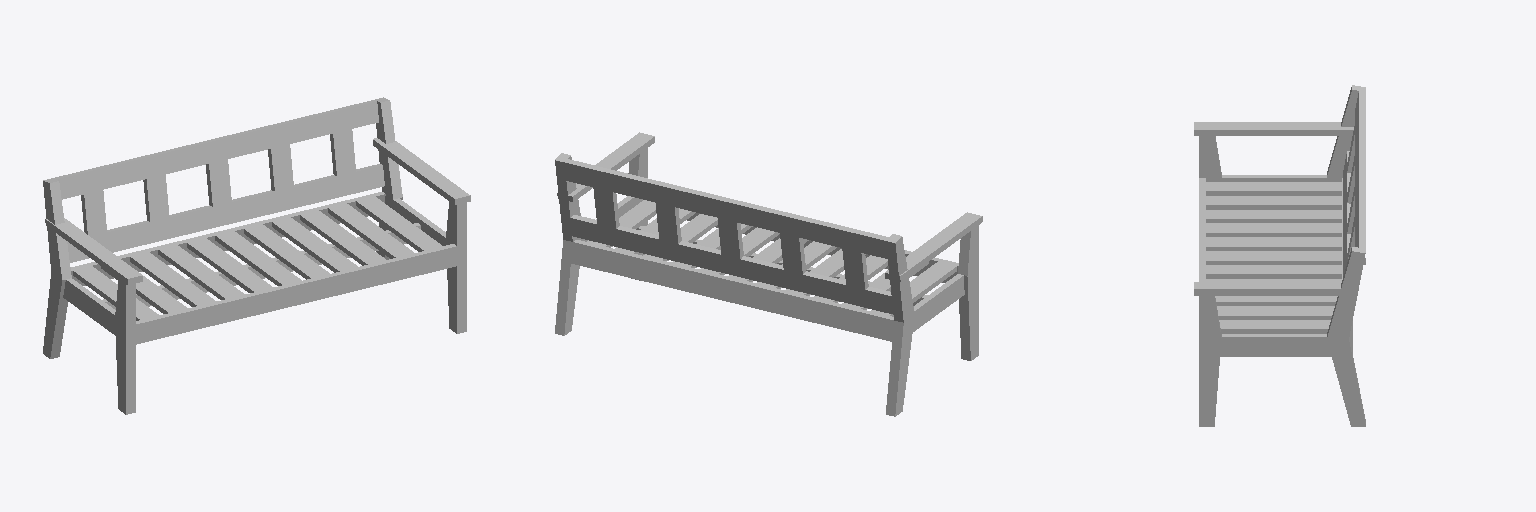
Rendered from banca.obj.
The picture shows the model from 3 angles: view 1: azimuth 30°, elevation 25°; view 2: azimuth 150°, elevation 25°; view 3: azimuth 270°, elevation 25°; orthographic projection.
Parts seen in each view (by area): view 1: Body12_Steel_-_Satin_0, Body6_Steel_-_Satin_0, Body13_Steel_-_Satin_0, Body2_Steel_-_Satin_0, Body1_Steel_-_Satin_0, Body8_Steel_-_Satin_0, Body7_Steel_-_Satin_0, Body11_Steel_-_Satin_0, Body4_Steel_-_Satin_0, Body22_Steel_-_Satin_0, Body17_Steel_-_Satin_0, Body26_Steel_-_Satin_0 (+17 smaller); view 2: Body7_Steel_-_Satin_0, Body12_Steel_-_Satin_0, Body13_Steel_-_Satin_0, Body2_Steel_-_Satin_0, Body9_Steel_-_Satin_0, Body1_Steel_-_Satin_0, Body4_Steel_-_Satin_0, Body3_Steel_-_Satin_0, Body11_Steel_-_Satin_0, Body18_Steel_-_Satin_0, Body30_Steel_-_Satin_0, Body31_Steel_-_Satin_0 (+8 smaller); view 3: Body9_Steel_-_Satin_0, Body8_Steel_-_Satin_0, Body10_Steel_-_Satin_0, Body11_Steel_-_Satin_0, Body4_Steel_-_Satin_0, Body17_Steel_-_Satin_0, Body18_Steel_-_Satin_0, Body19_Steel_-_Satin_0, Body22_Steel_-_Satin_0, Body23_Steel_-_Satin_0, Body25_Steel_-_Satin_0, Body24_Steel_-_Satin_0 (+9 smaller).
Boxes of the visible parts, x1=… form: Body12_Steel_-_Satin_0: x1=53, y1=100, x2=378, y2=199; Body6_Steel_-_Satin_0: x1=136, y1=244, x2=456, y2=344; Body13_Steel_-_Satin_0: x1=67, y1=164, x2=384, y2=262; Body2_Steel_-_Satin_0: x1=43, y1=178, x2=71, y2=358; Body1_Steel_-_Satin_0: x1=115, y1=270, x2=135, y2=414; Body8_Steel_-_Satin_0: x1=446, y1=189, x2=466, y2=333; Body7_Steel_-_Satin_0: x1=71, y1=192, x2=385, y2=285; Body11_Steel_-_Satin_0: x1=373, y1=138, x2=470, y2=204; Body4_Steel_-_Satin_0: x1=45, y1=218, x2=142, y2=284; Body22_Steel_-_Satin_0: x1=215, y1=231, x2=301, y2=285; Body17_Steel_-_Satin_0: x1=187, y1=238, x2=273, y2=292; Body26_Steel_-_Satin_0: x1=356, y1=197, x2=441, y2=251; Body7_Steel_-_Satin_0: x1=571, y1=240, x2=893, y2=341; Body12_Steel_-_Satin_0: x1=564, y1=159, x2=888, y2=258; Body13_Steel_-_Satin_0: x1=570, y1=215, x2=893, y2=314; Body2_Steel_-_Satin_0: x1=886, y1=234, x2=914, y2=416; Body9_Steel_-_Satin_0: x1=555, y1=153, x2=582, y2=335; Body1_Steel_-_Satin_0: x1=958, y1=216, x2=978, y2=360; Body4_Steel_-_Satin_0: x1=885, y1=212, x2=982, y2=281; Body3_Steel_-_Satin_0: x1=913, y1=274, x2=964, y2=331; Body11_Steel_-_Satin_0: x1=557, y1=132, x2=654, y2=201; Body18_Steel_-_Satin_0: x1=871, y1=262, x2=956, y2=316; Body30_Steel_-_Satin_0: x1=842, y1=248, x2=868, y2=289; Body31_Steel_-_Satin_0: x1=593, y1=187, x2=619, y2=228; Body9_Steel_-_Satin_0: x1=1327, y1=247, x2=1365, y2=426; Body8_Steel_-_Satin_0: x1=1199, y1=284, x2=1221, y2=426; Body10_Steel_-_Satin_0: x1=1220, y1=334, x2=1331, y2=356; Body11_Steel_-_Satin_0: x1=1194, y1=282, x2=1358, y2=295; Body4_Steel_-_Satin_0: x1=1194, y1=122, x2=1353, y2=135; Body17_Steel_-_Satin_0: x1=1206, y1=237, x2=1341, y2=250; Body18_Steel_-_Satin_0: x1=1206, y1=182, x2=1341, y2=195; Body19_Steel_-_Satin_0: x1=1206, y1=223, x2=1341, y2=236; Body22_Steel_-_Satin_0: x1=1206, y1=251, x2=1341, y2=264; Body23_Steel_-_Satin_0: x1=1206, y1=196, x2=1341, y2=209; Body25_Steel_-_Satin_0: x1=1206, y1=265, x2=1341, y2=278; Body24_Steel_-_Satin_0: x1=1206, y1=210, x2=1341, y2=222.
Size of the model in its own units: 1.79 by 0.8772 by 0.7791.